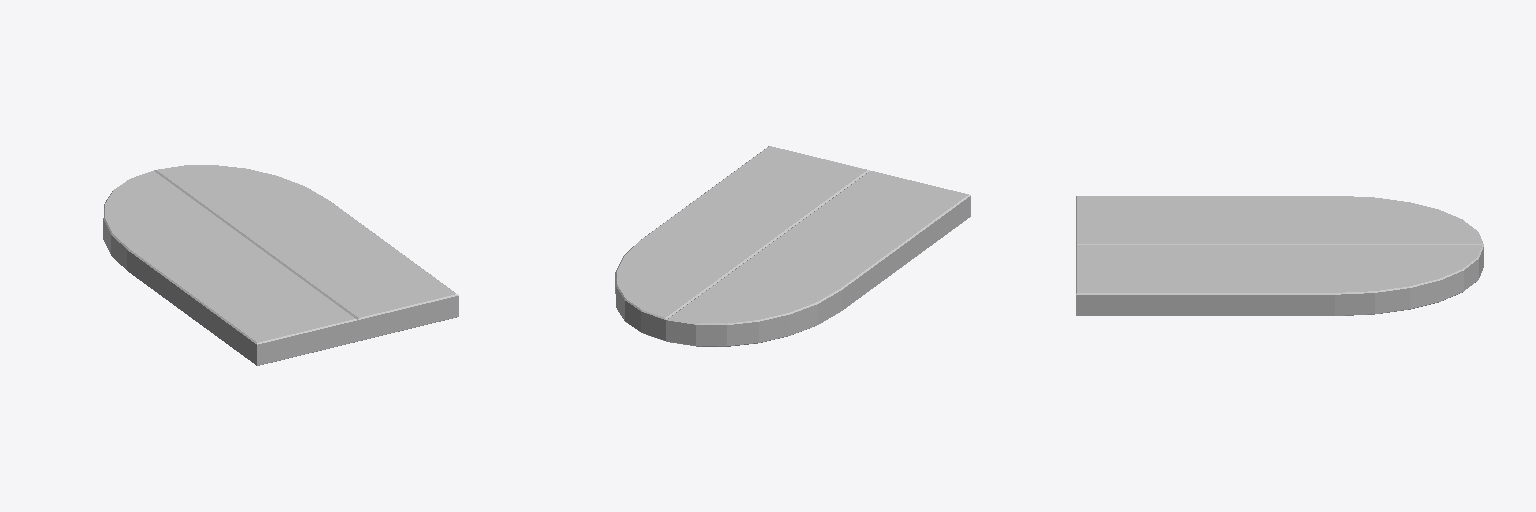
File: FinalGate.obj
The picture shows the model from 3 angles: view 1: azimuth 30°, elevation 25°; view 2: azimuth 150°, elevation 25°; view 3: azimuth 270°, elevation 25°; orthographic projection.
Parts seen in each view (by area): view 1: FinalGate:headusOBJexport FinalGate_Left, FinalGate_Right FinalGate:headusOBJexport; view 2: FinalGate:headusOBJexport FinalGate_Left, FinalGate_Right FinalGate:headusOBJexport; view 3: FinalGate_Right FinalGate:headusOBJexport, FinalGate:headusOBJexport FinalGate_Left.
Part boxes in pixels (x1,y1,x2,y2): FinalGate:headusOBJexport FinalGate_Left: (103,171,357,365); FinalGate_Right FinalGate:headusOBJexport: (154,165,458,340); FinalGate:headusOBJexport FinalGate_Left: (666,171,970,346); FinalGate_Right FinalGate:headusOBJexport: (615,146,869,340); FinalGate_Right FinalGate:headusOBJexport: (1076,245,1483,315); FinalGate:headusOBJexport FinalGate_Left: (1076,196,1483,244).
Bounding box in the file's own units: 18.83 × 2.08 × 32.93.